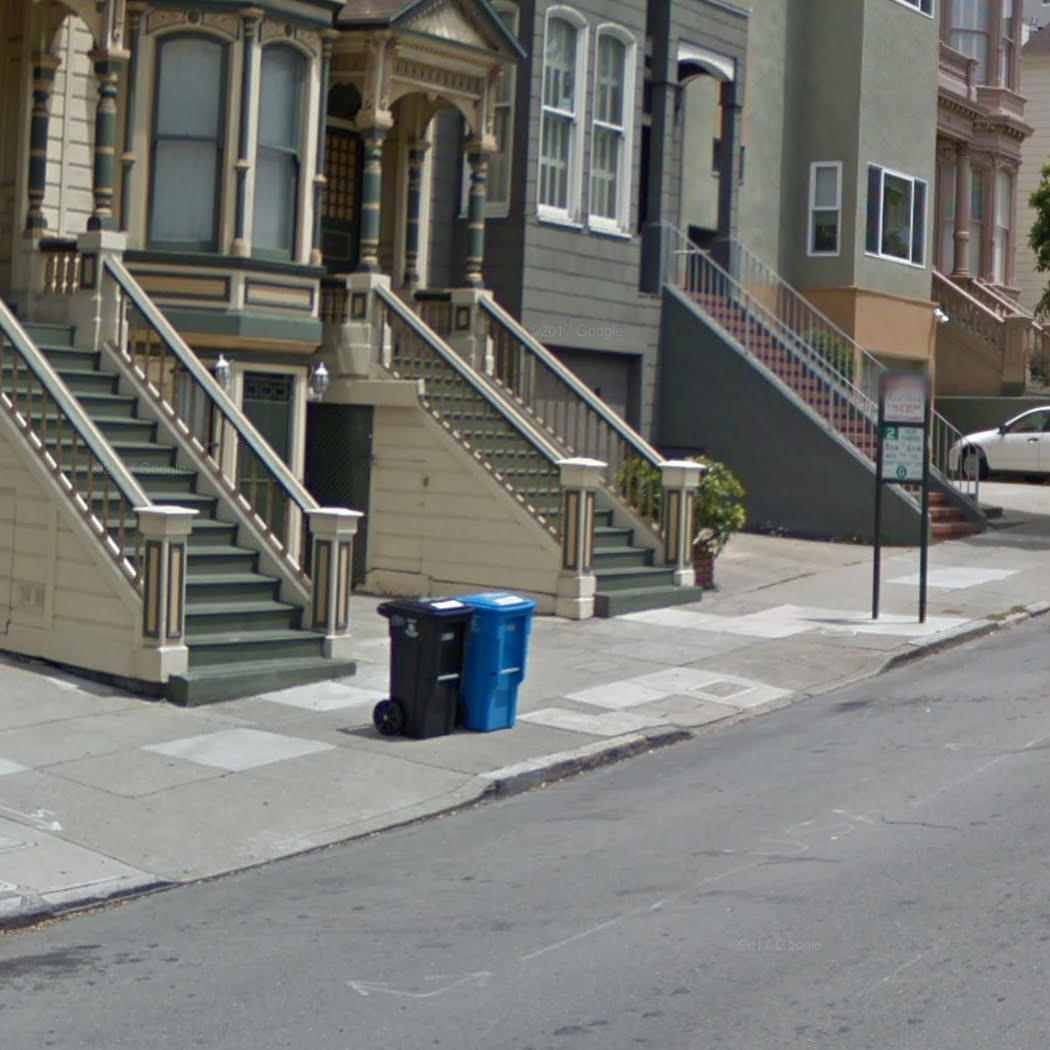2 Hour Parking: (877, 424, 926, 482)
No Parking: (879, 371, 929, 424)
